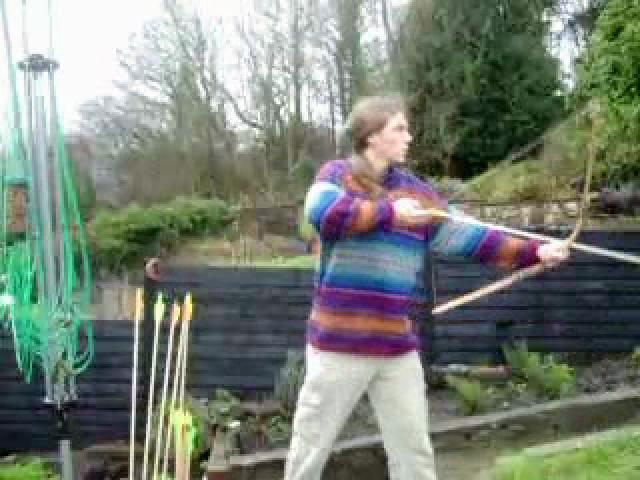I: (273, 96, 565, 476)
